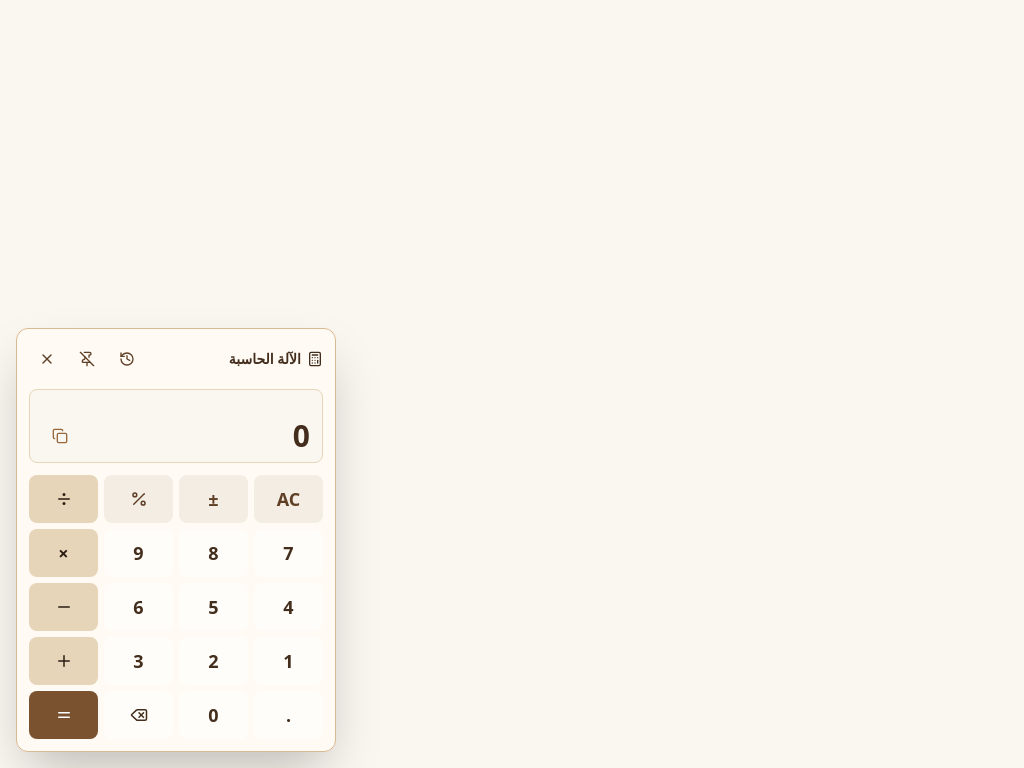
Test: PosCalculator — arithmetic through the UI › shows a readable divide-by-zero message, never Infinity
Click the button "5".
click(214, 607)  # box 179,583 -> 248,631
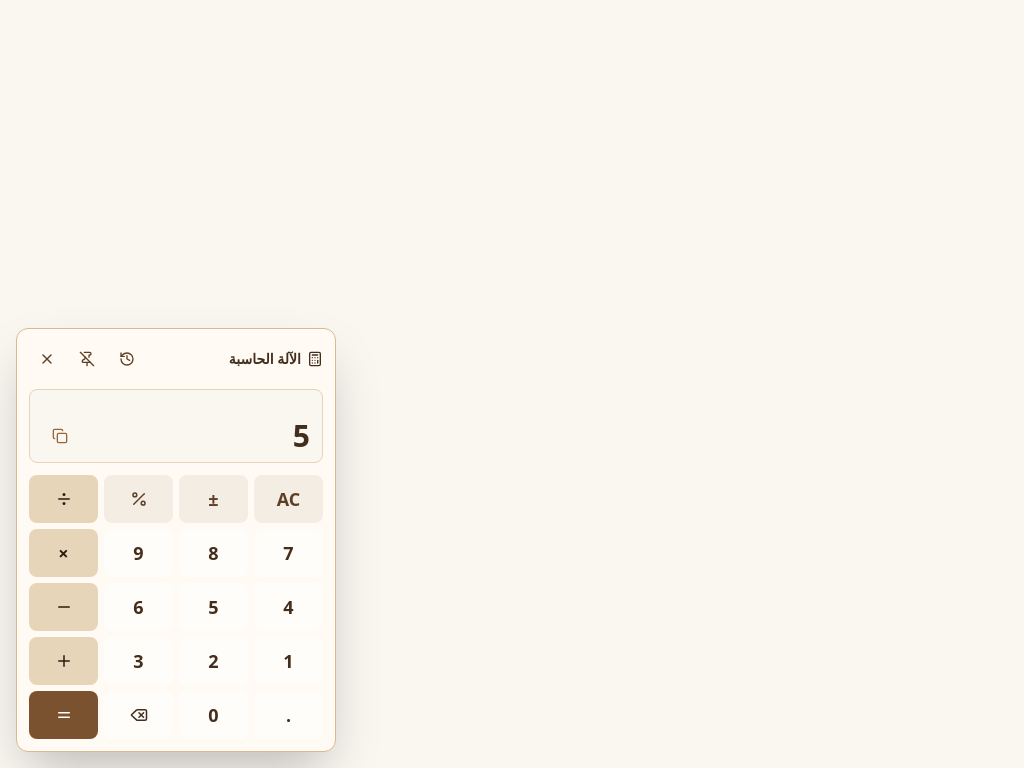
Click the button with test id "calc-divide".
click(64, 499)  # box 29,475 -> 98,523
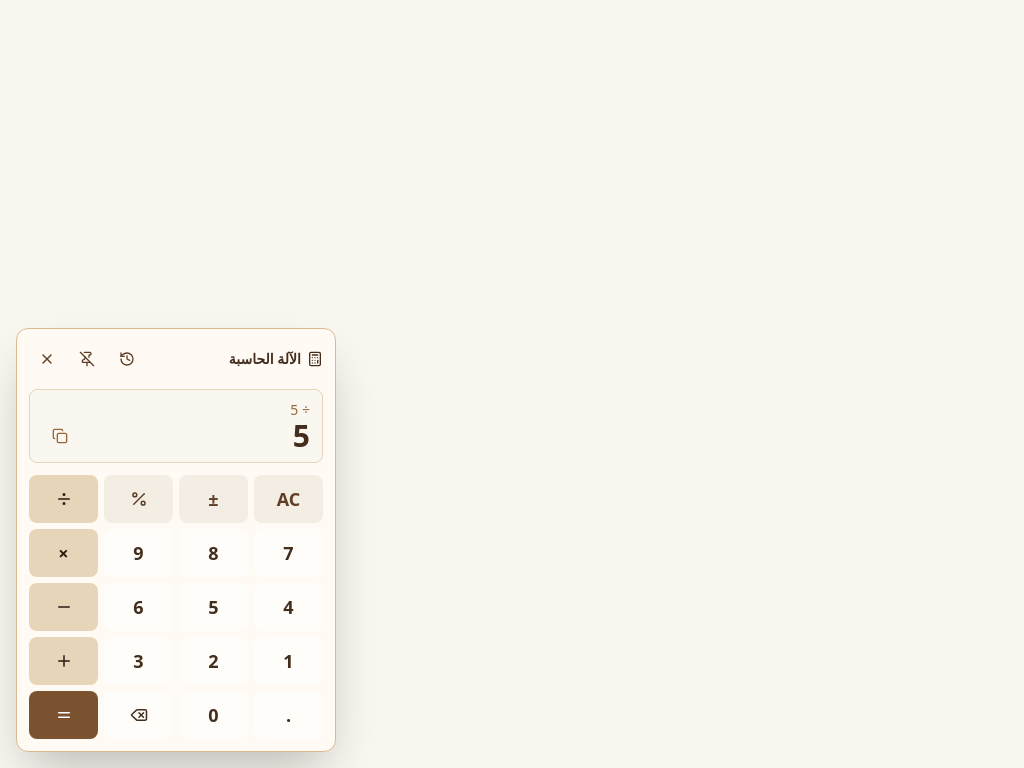
Click the button with test id "calc-0".
click(214, 715)  # box 179,691 -> 248,739
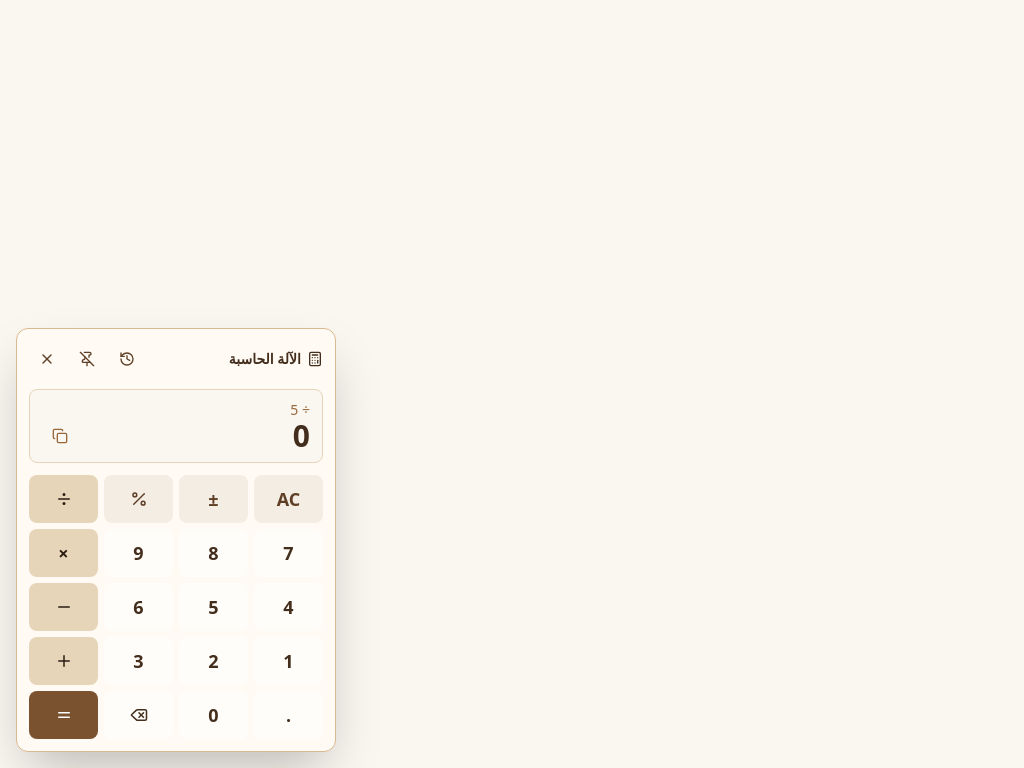
Click the button with test id "calc-equals".
click(64, 715)  # box 29,691 -> 98,739
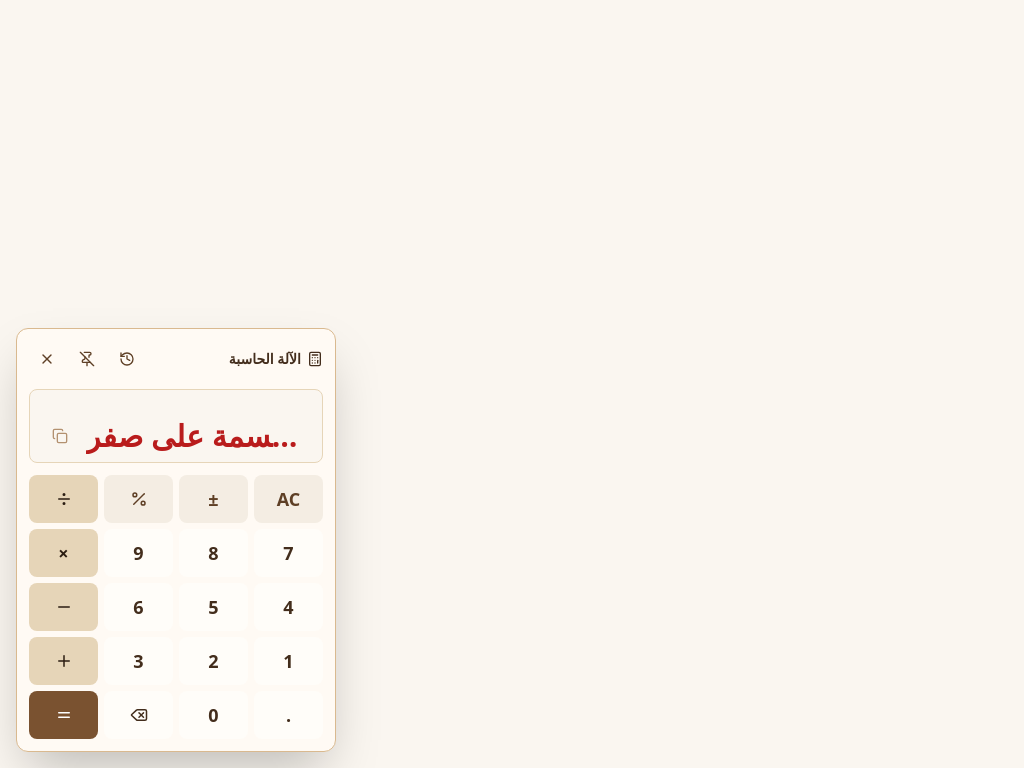
Expected: the text with test id "calc-display" does not show "Infinity", 86,418 -> 310,454
Expected: the button with test id "calc-copy" is disabled, 42,418 -> 78,454
